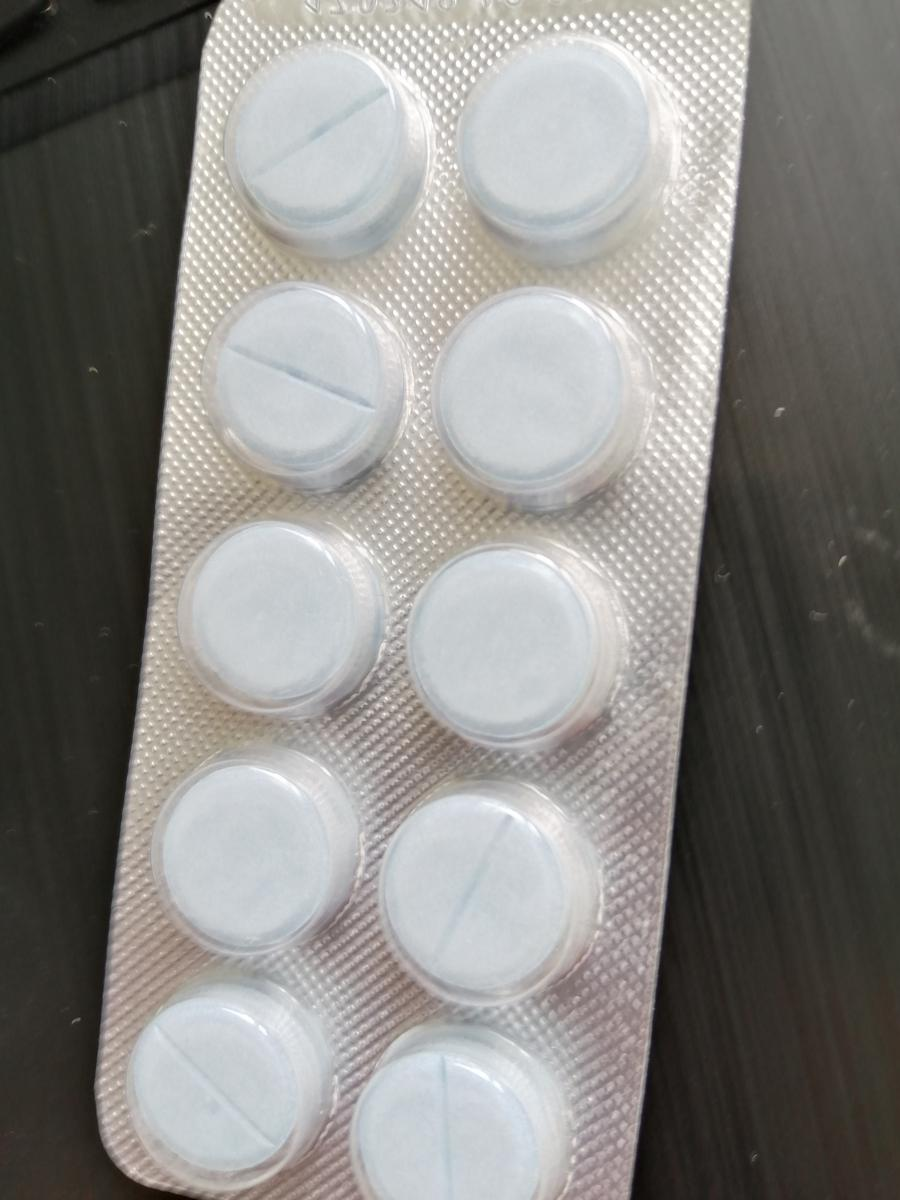tablet: (377, 796, 596, 1006), (407, 545, 622, 753), (184, 519, 384, 728), (441, 289, 639, 496), (156, 760, 356, 957), (131, 989, 326, 1187), (352, 1032, 580, 1200), (465, 43, 656, 240), (211, 279, 394, 483), (226, 45, 418, 232)
